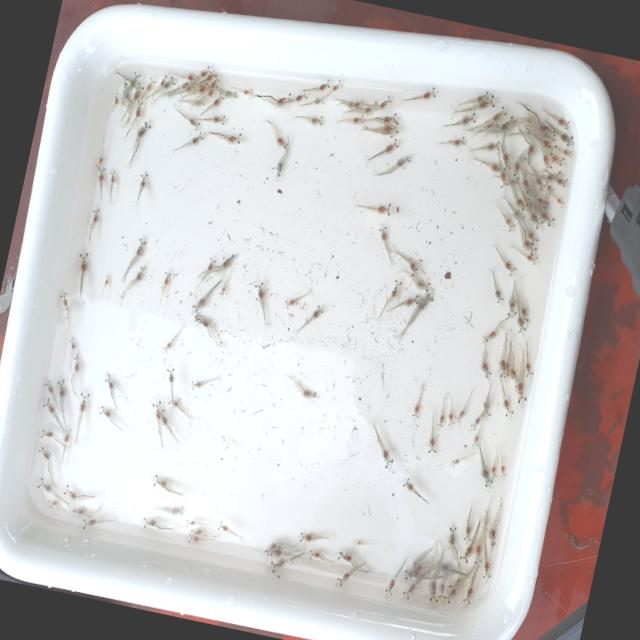babyshrimp: (349, 196, 395, 215), (74, 386, 90, 421), (441, 580, 462, 604), (133, 118, 151, 144), (34, 474, 54, 497), (457, 538, 474, 565), (192, 313, 211, 336), (130, 234, 146, 261), (479, 456, 492, 489), (218, 253, 239, 273), (158, 271, 171, 303), (539, 208, 557, 230), (501, 257, 518, 280), (150, 473, 171, 491), (60, 482, 78, 503), (400, 580, 418, 601), (189, 293, 207, 314), (398, 473, 415, 495), (267, 556, 289, 573), (149, 397, 162, 425), (132, 259, 147, 283), (39, 397, 56, 418), (252, 280, 265, 307), (392, 151, 410, 170), (380, 136, 399, 154), (426, 572, 437, 603), (197, 68, 217, 85), (526, 210, 543, 230), (220, 131, 246, 144), (273, 154, 285, 182), (78, 516, 100, 531), (76, 250, 88, 277), (540, 140, 558, 158), (334, 569, 351, 588), (490, 104, 507, 123), (126, 68, 140, 91), (388, 278, 402, 301), (266, 542, 286, 558), (36, 443, 51, 464), (380, 445, 393, 469), (55, 375, 66, 403), (377, 120, 399, 134), (515, 307, 526, 335), (96, 404, 113, 422), (416, 291, 432, 310), (458, 110, 477, 126), (130, 80, 143, 103), (70, 349, 81, 376), (557, 130, 574, 147), (274, 91, 290, 109), (328, 76, 344, 94), (479, 356, 491, 380), (41, 375, 54, 397), (460, 583, 473, 605), (376, 222, 388, 245), (501, 394, 513, 417), (89, 204, 100, 229), (446, 523, 457, 548), (453, 404, 466, 425), (400, 567, 421, 580), (301, 114, 322, 127), (477, 94, 494, 110), (188, 129, 206, 144), (102, 371, 114, 393), (94, 165, 106, 187), (425, 432, 436, 456), (515, 380, 526, 404), (375, 94, 391, 110), (195, 65, 211, 81), (211, 112, 228, 127), (521, 239, 536, 256), (382, 577, 396, 595), (214, 519, 232, 533), (524, 228, 538, 246), (514, 193, 528, 211), (154, 71, 167, 90), (334, 549, 353, 562), (501, 146, 510, 173), (497, 355, 508, 377), (161, 74, 176, 90), (448, 456, 465, 470), (448, 134, 465, 148), (66, 335, 77, 356), (497, 168, 508, 189), (107, 167, 117, 190), (144, 75, 156, 94), (481, 554, 490, 579), (314, 77, 330, 91), (552, 175, 568, 189), (61, 425, 71, 447), (57, 290, 68, 310), (137, 171, 147, 193), (297, 531, 317, 542), (406, 257, 417, 277), (470, 426, 480, 448), (492, 284, 503, 304), (185, 532, 203, 544), (503, 215, 515, 233), (309, 304, 324, 318), (211, 91, 225, 106), (420, 85, 435, 99), (482, 327, 496, 342), (298, 387, 317, 398), (141, 517, 157, 530), (309, 93, 325, 106), (402, 293, 418, 306), (481, 395, 490, 418), (523, 356, 532, 379), (506, 293, 515, 316), (349, 112, 366, 124), (412, 280, 429, 292), (484, 140, 501, 152), (216, 279, 227, 297), (187, 118, 201, 132), (555, 116, 569, 130), (38, 427, 54, 439), (305, 548, 321, 560), (274, 133, 286, 149), (472, 90, 488, 102), (461, 522, 470, 543), (282, 297, 296, 310), (551, 153, 564, 167), (133, 98, 142, 118), (410, 400, 420, 418), (182, 517, 197, 529), (203, 78, 218, 90), (523, 253, 538, 265), (380, 113, 396, 124), (488, 524, 495, 549), (165, 366, 174, 385), (205, 256, 215, 273), (468, 416, 480, 430), (559, 147, 573, 159), (160, 340, 171, 355), (100, 270, 111, 285), (445, 409, 453, 429), (489, 460, 497, 480), (45, 498, 59, 509), (187, 98, 204, 107), (435, 410, 443, 429), (222, 89, 237, 99), (189, 379, 202, 390), (93, 154, 103, 168), (498, 462, 506, 478), (189, 527, 203, 536), (554, 197, 564, 209), (69, 507, 85, 514), (351, 538, 363, 547), (111, 90, 118, 105)
